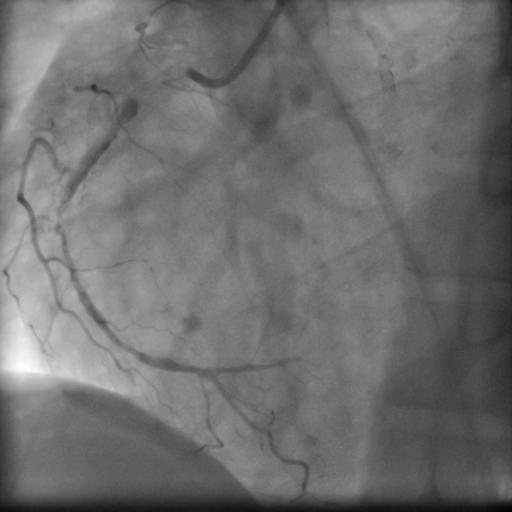Stenosis: (129, 88, 150, 109)
